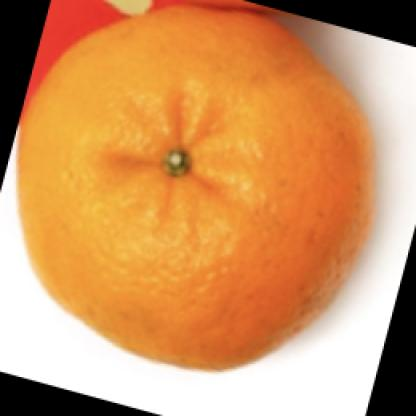fresh: (17, 9, 372, 372)
